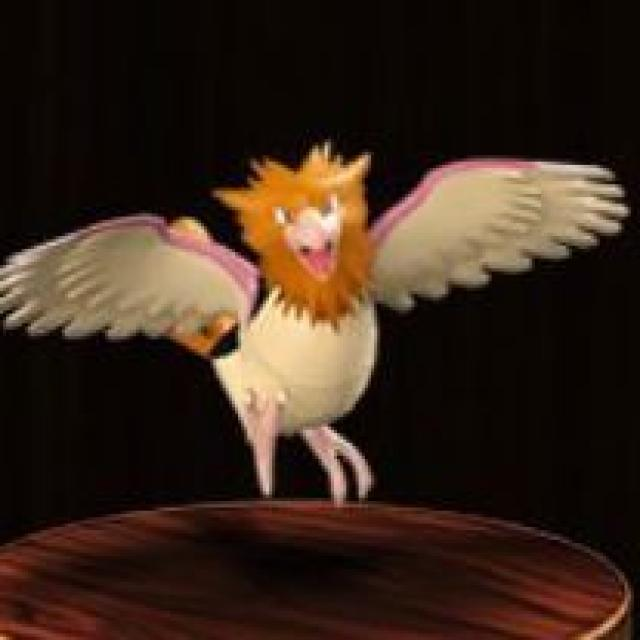Spearow: (85, 148, 504, 444)
